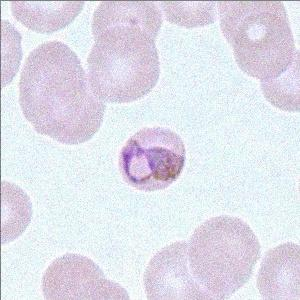Infected: (118, 126, 187, 192)
Uninfected: (187, 215, 260, 300), (21, 39, 82, 132), (87, 27, 159, 104), (142, 237, 216, 300), (232, 12, 297, 79), (90, 1, 163, 59), (49, 71, 102, 143), (40, 249, 106, 300)
